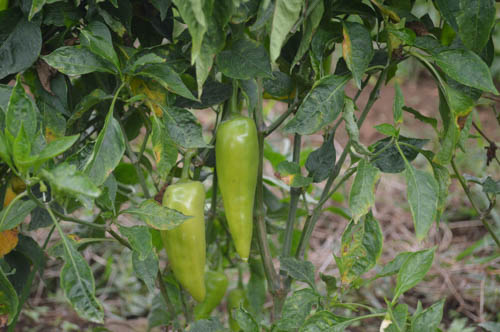ChiliPepper: (155, 184, 210, 305), (213, 116, 258, 260)
